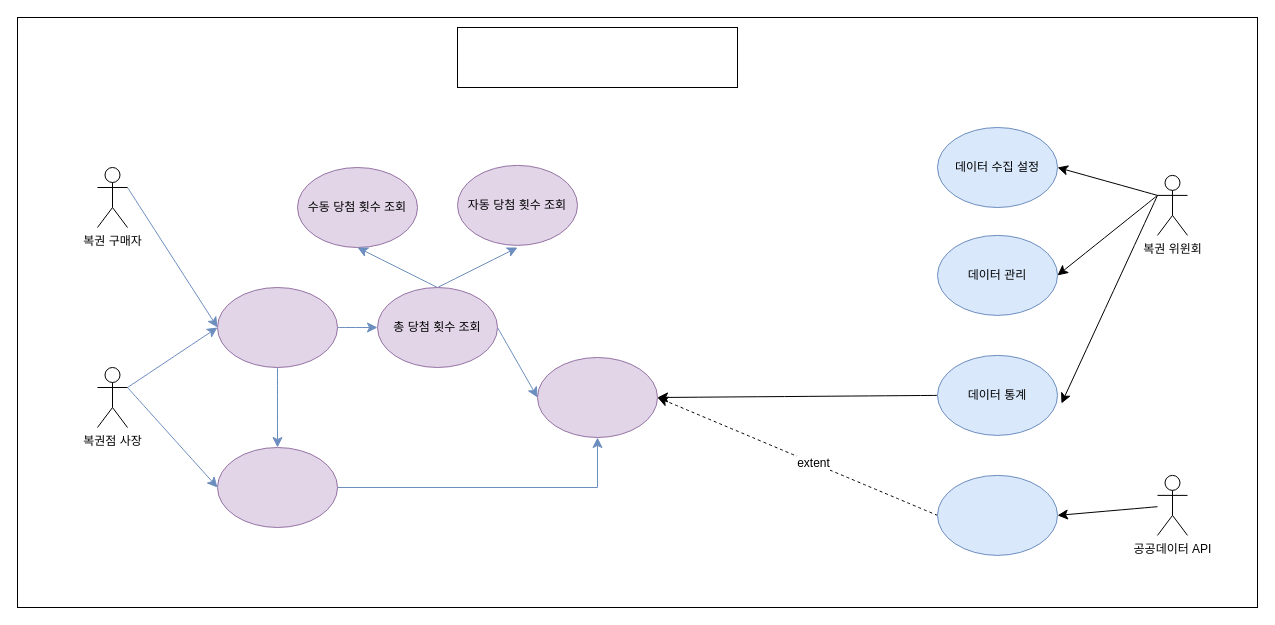
The diagram is 1275 pixels wide and 625 high, and some of its shapes have lost their labels. The shapes that lost their labels are listed below. From the top down, each one's centre as x and y in pixels, then its label:
At (x=597, y=57): "유스케이프 다이어그램 - 매출에 따른 지역별 복권 당첨 확률 조회".
At (x=277, y=327): "지역 검색".
At (x=597, y=397): "당첨 확률 조회".
At (x=277, y=487): "매출 조회".
At (x=997, y=514): "실시간 데이터 제공".
